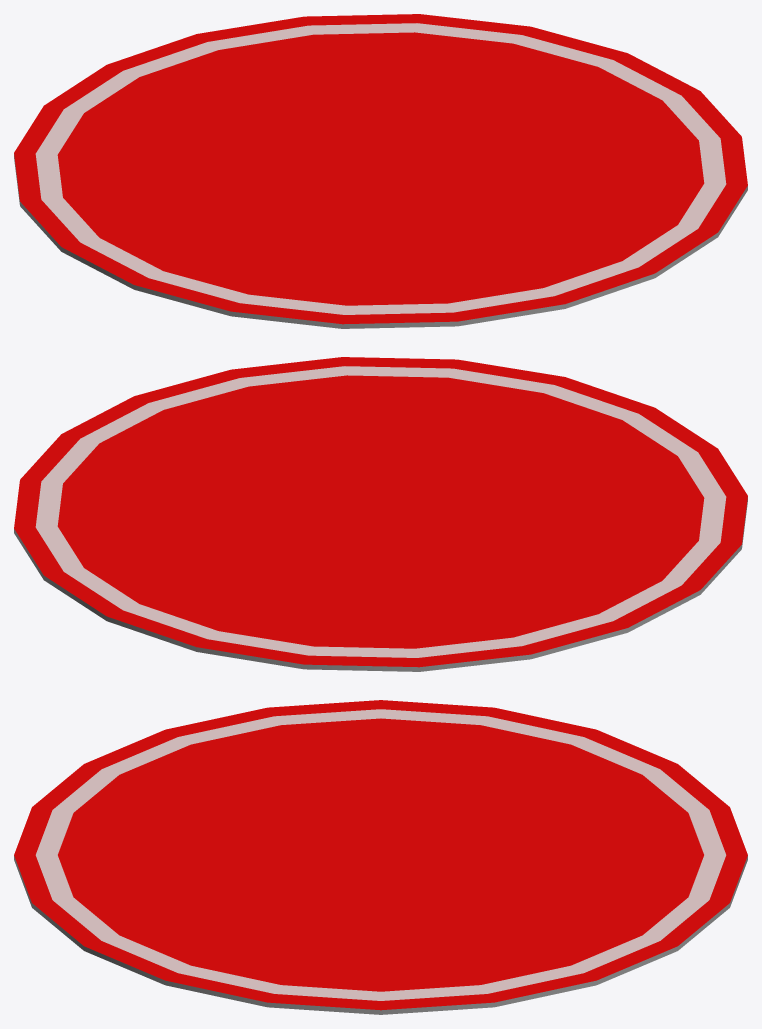
Rendered from attack.fbx.
3 views of the same model, one above another, from view 1: azimuth 30°, elevation 25°; view 2: azimuth 150°, elevation 25°; view 3: azimuth 270°, elevation 25° (orthographic).
Visible parts, largest first — view 1: pCylinder1; view 2: pCylinder1; view 3: pCylinder1.
Part boxes in pixels (x1=…): pCylinder1: x1=14, y1=14, x2=747, y2=328; pCylinder1: x1=14, y1=357, x2=747, y2=671; pCylinder1: x1=14, y1=700, x2=747, y2=1014.
Size of the model in its own units: 55.3 by 0.3952 by 55.3.
